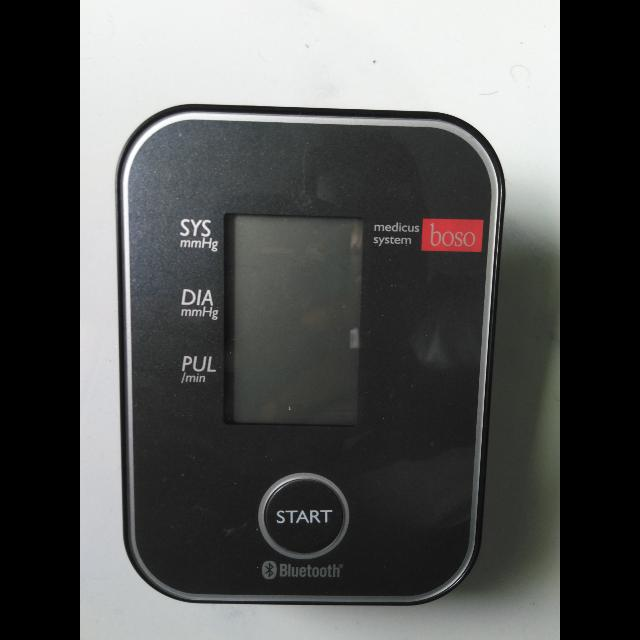Blood-Pressure-Monitor: (88, 100, 500, 608)
